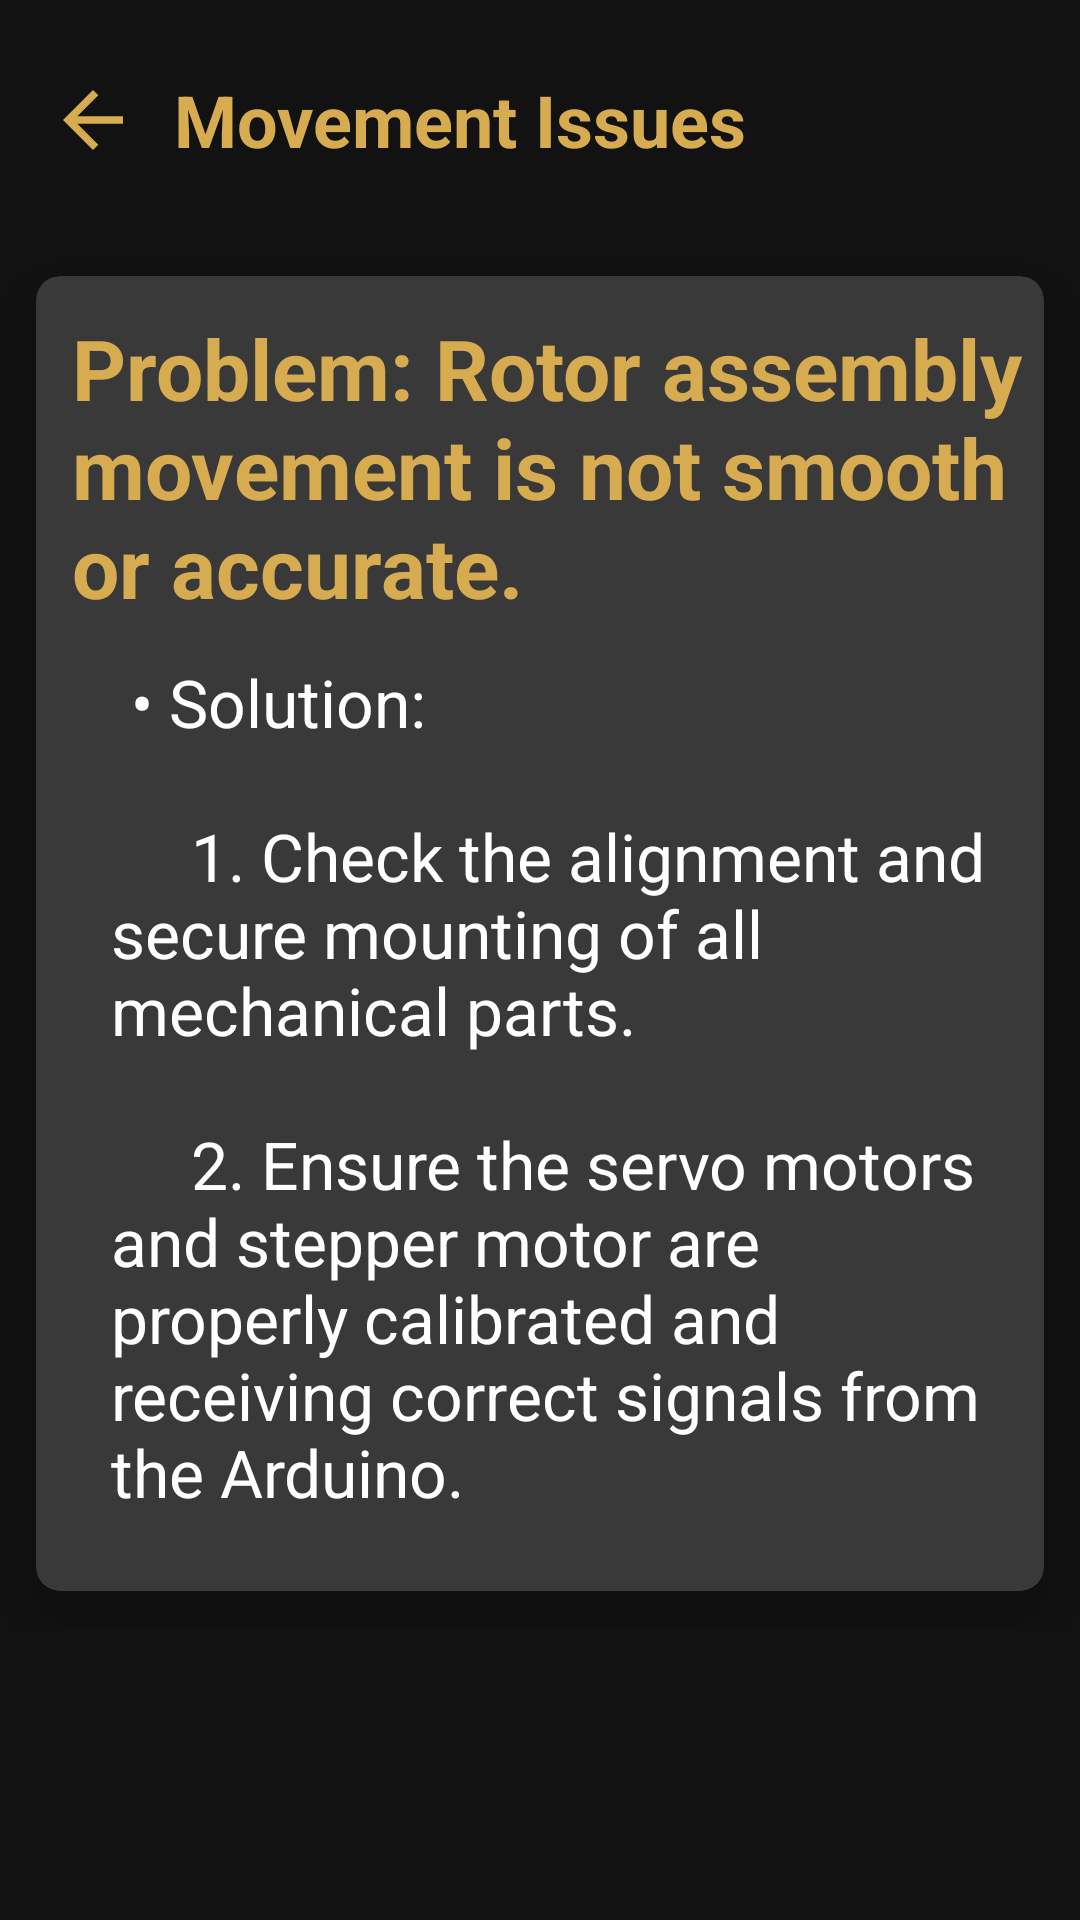

Screen size 1080w x 1920h. Icon name, then its box in pixels as [x1, y1, x2, y2]:
arrow back: [63, 90, 123, 150]
